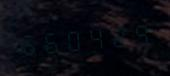four: (84, 20, 105, 54)
nine: (128, 16, 149, 50)
six: (39, 23, 60, 58), (17, 25, 38, 59)
two: (106, 18, 127, 52)
zero: (62, 22, 83, 56)
